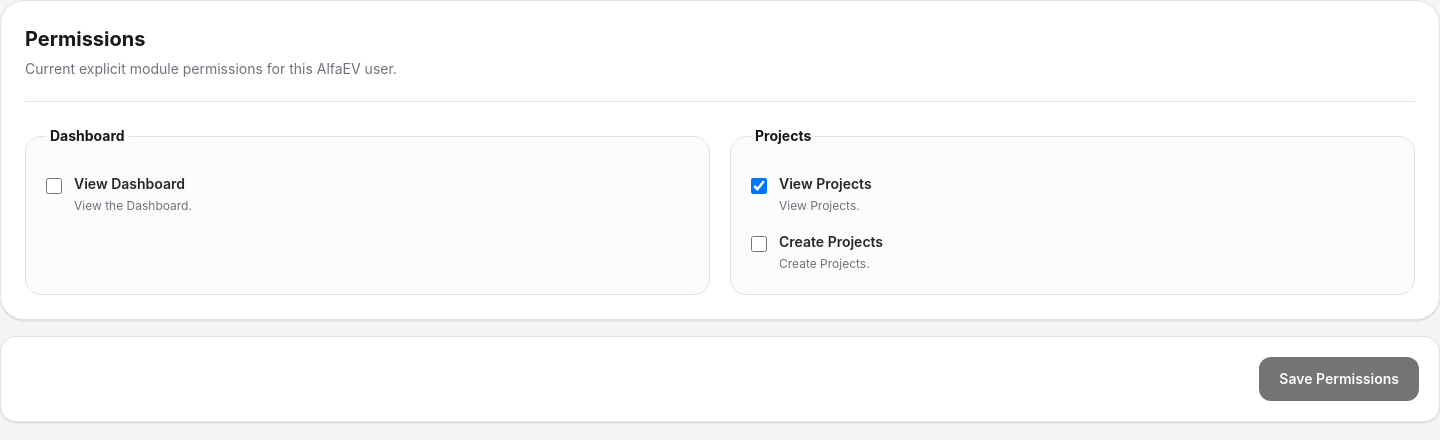
Test: UserPermissionEditor › edits a non-admin draft and saves complete expected and desired sets
Expected: the button "Save Permissions" is disabled, [1259,357,1419,401]
Click the checkbox labelled "Create Projects" at (759, 244), box [751,236,767,252]
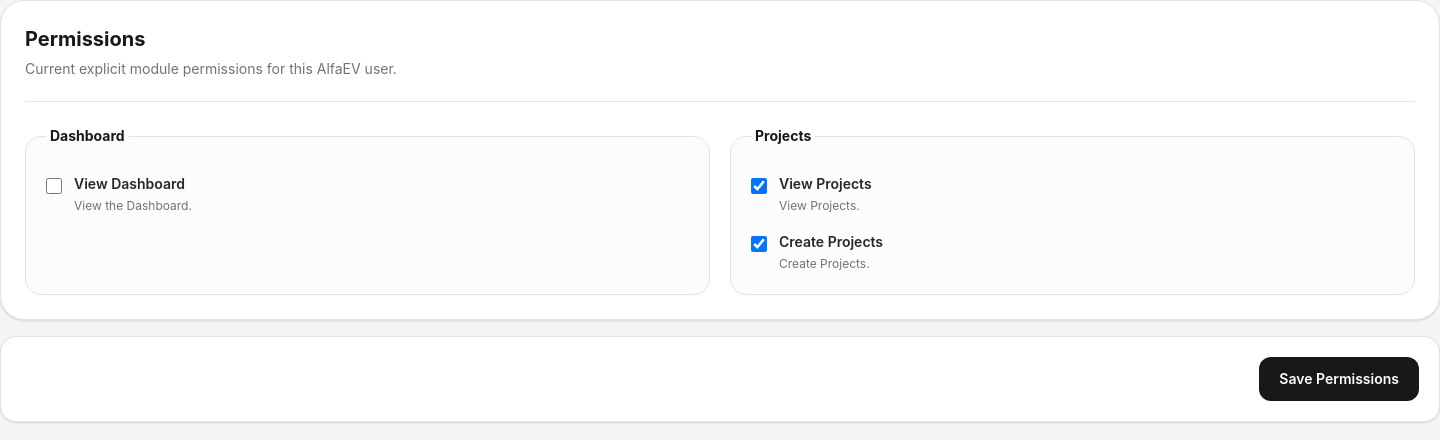
Result: the button "Save Permissions" is enabled
Click the button "Save Permissions" at (1339, 379), box [1259,357,1419,401]
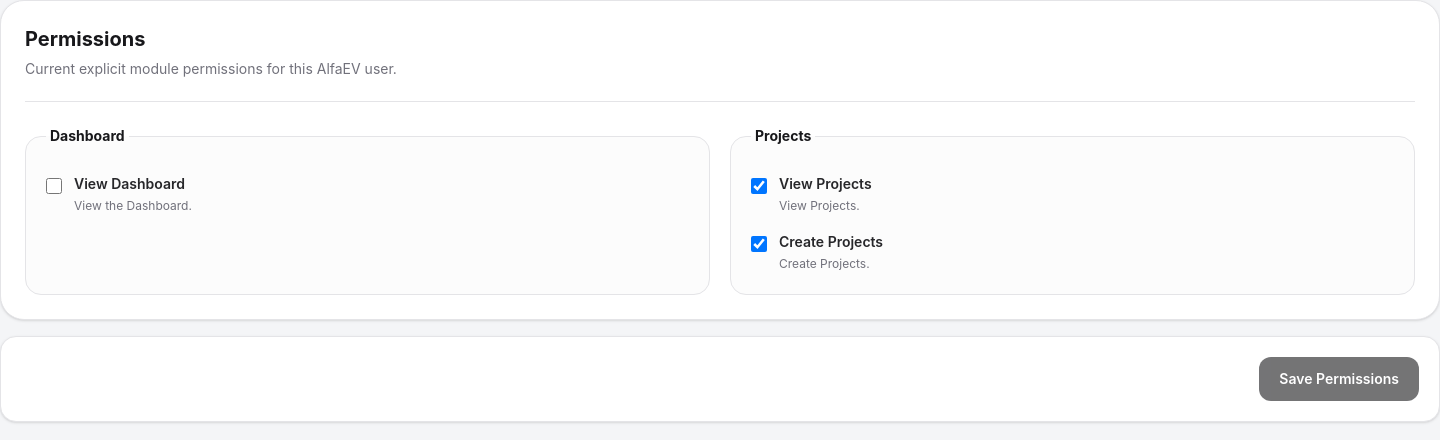
Result: the button "Save Permissions" is disabled at [1259,357,1419,401]
